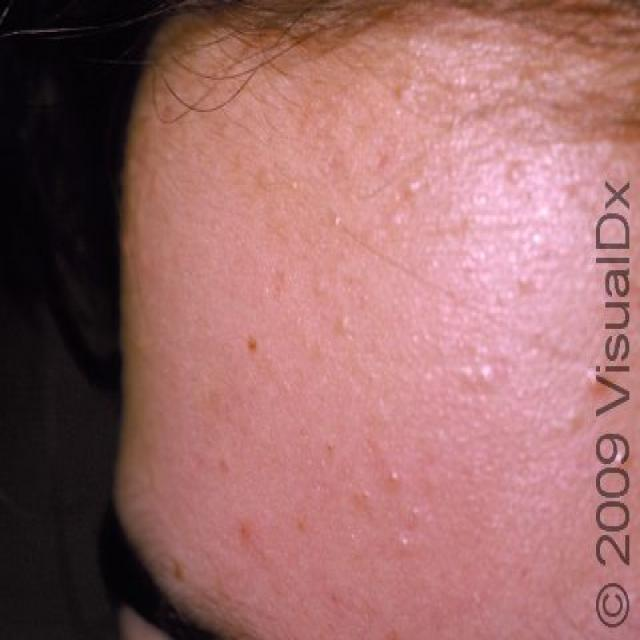acne: (146, 101, 594, 632)
